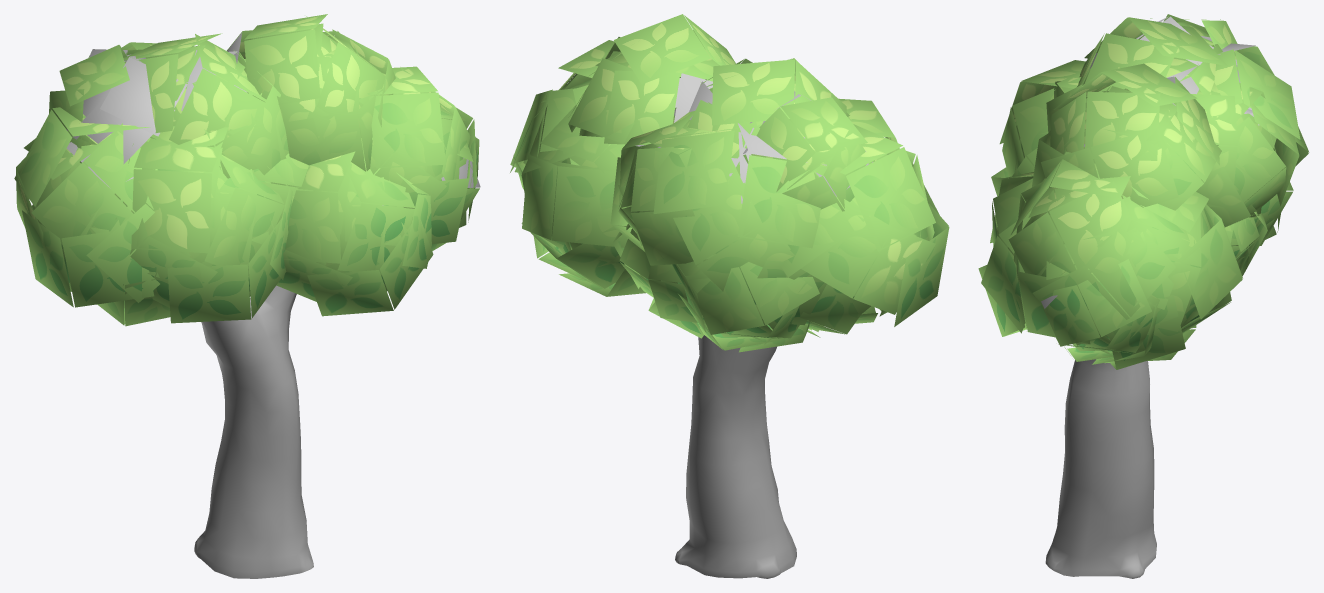
Rendered from SM_TreeA.fbx.
The picture shows the model from 3 angles, left to right: view 1: azimuth 30°, elevation 25°; view 2: azimuth 150°, elevation 25°; view 3: azimuth 270°, elevation 25°; orthographic projection. The views are drawn at different scales.
Visible parts, largest first — view 1: treeA_low1; view 2: treeA_low1; view 3: treeA_low1.
Boxes of the visible parts, x1=… form: treeA_low1: x1=14, y1=14, x2=480, y2=578; treeA_low1: x1=510, y1=14, x2=949, y2=578; treeA_low1: x1=978, y1=14, x2=1309, y2=578.
Bounding box in the file's own units: 6.32 × 7.32 × 4.28.
